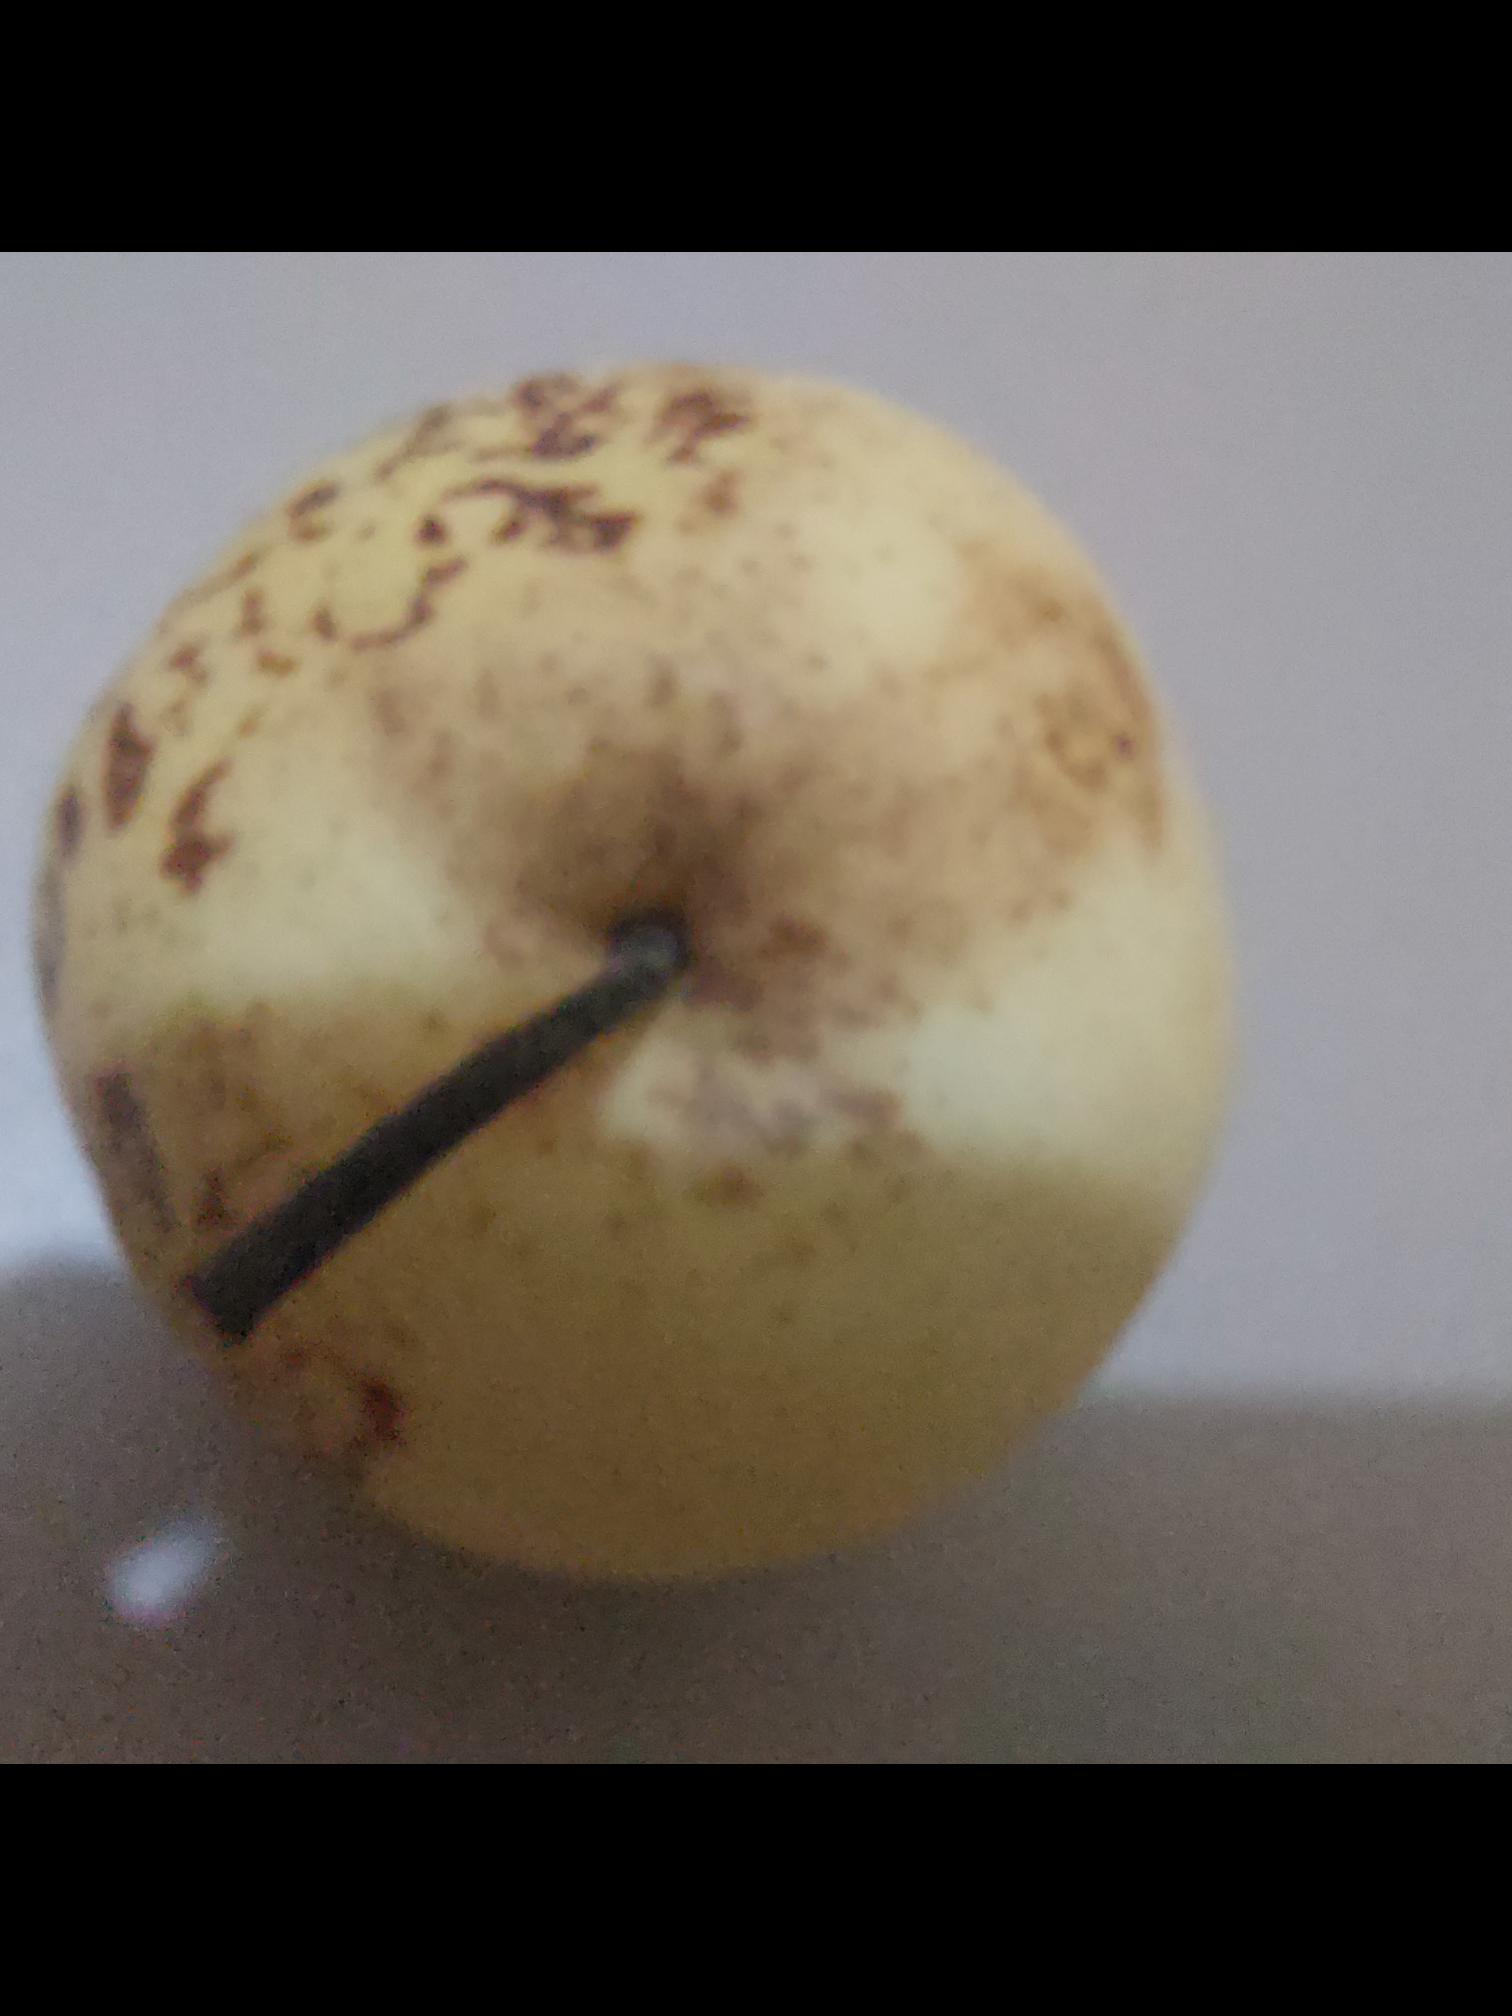Bad Pear: (22, 325, 1253, 1565)
